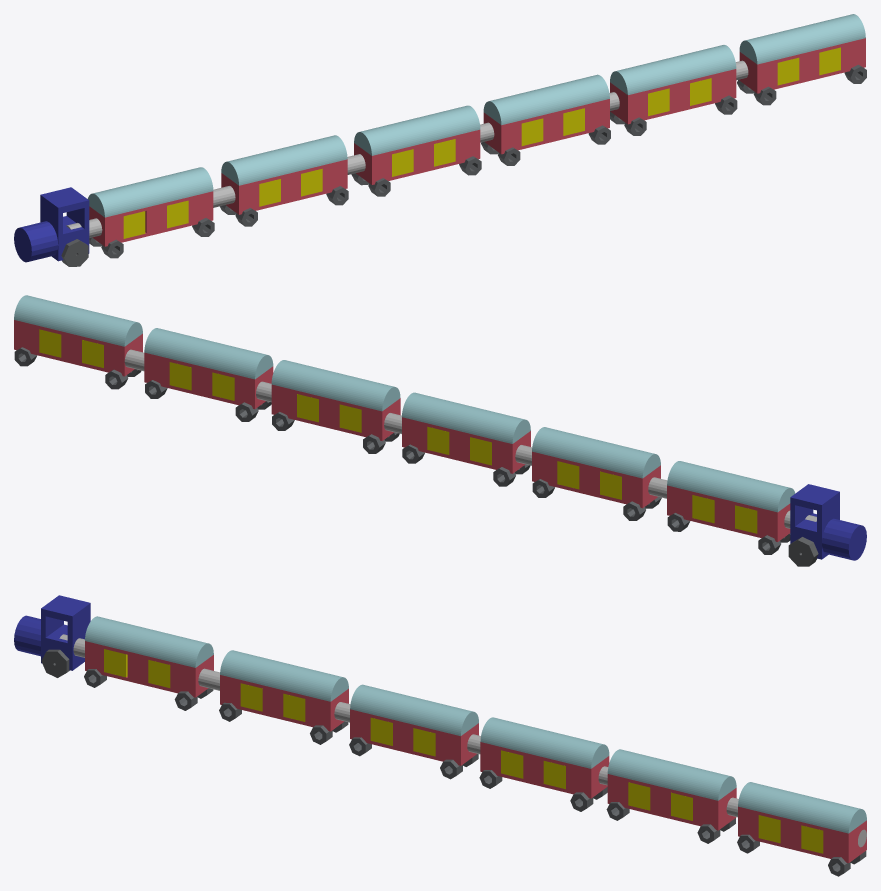
File: Tremendous Hango.glb
3 renders of one model, top to bottom at view 1: azimuth 30°, elevation 25°; view 2: azimuth 150°, elevation 25°; view 3: azimuth 330°, elevation 25°, orthographic. The views are drawn at different scales.
Parts seen in each view (by area): view 1: Mesh_Mesh_head_geo.001_lambert2SG.001; view 2: Mesh_Mesh_head_geo.001_lambert2SG.001; view 3: Mesh_Mesh_head_geo.001_lambert2SG.001.
Part boxes in pixels (x1,y1,x2,y2): Mesh_Mesh_head_geo.001_lambert2SG.001: (14,14,866,266); Mesh_Mesh_head_geo.001_lambert2SG.001: (14,295,866,566); Mesh_Mesh_head_geo.001_lambert2SG.001: (14,595,866,876).
Bounding box in the file's own units: 533 × 38 × 37.
